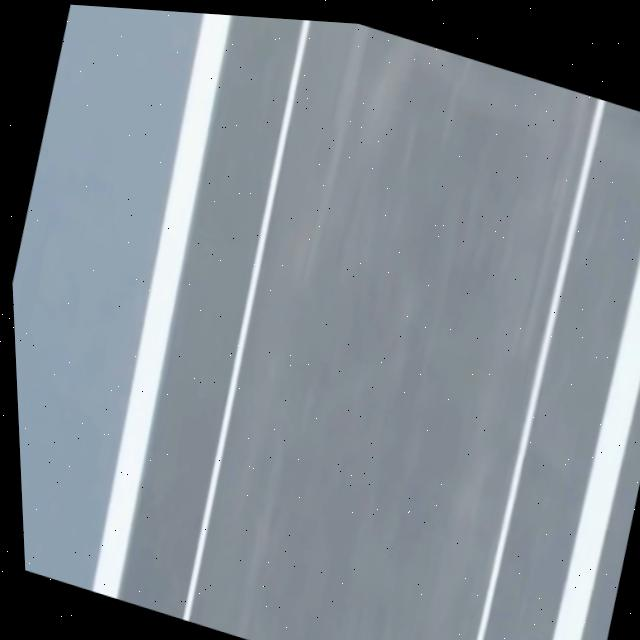center: (551, 252, 640, 640)
left: (91, 14, 230, 598)
